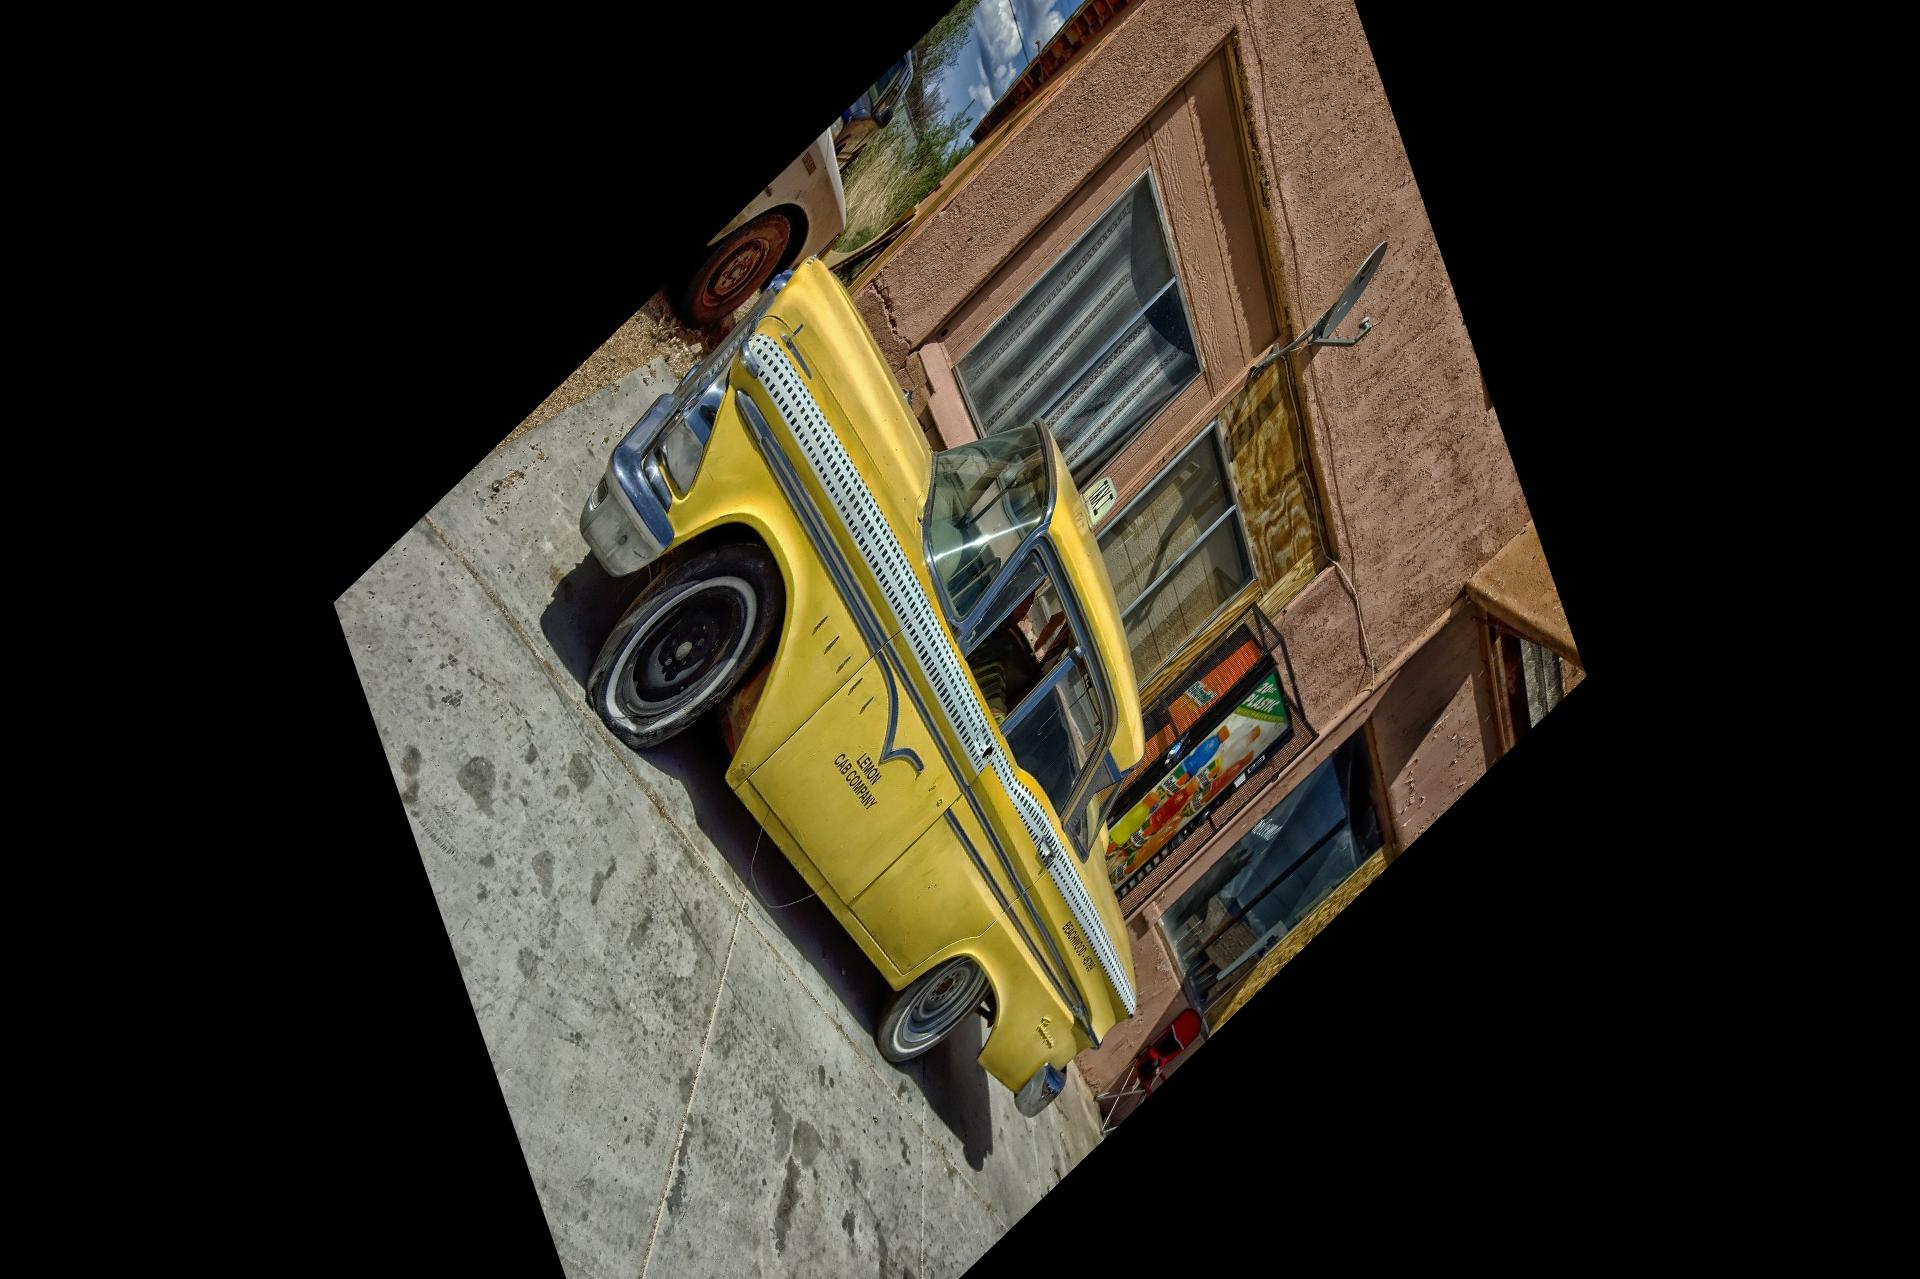taxi: (538, 314, 1185, 1098)
